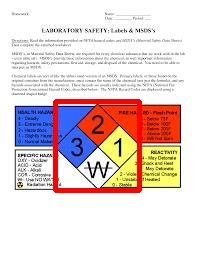nfpa: (55, 101, 139, 190)
